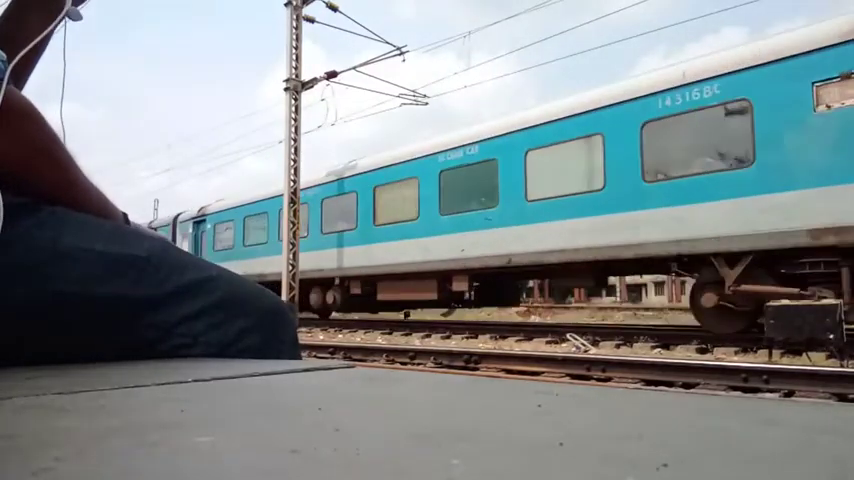Boogie: (638, 83, 707, 115)
Car Type: (431, 141, 491, 169)
